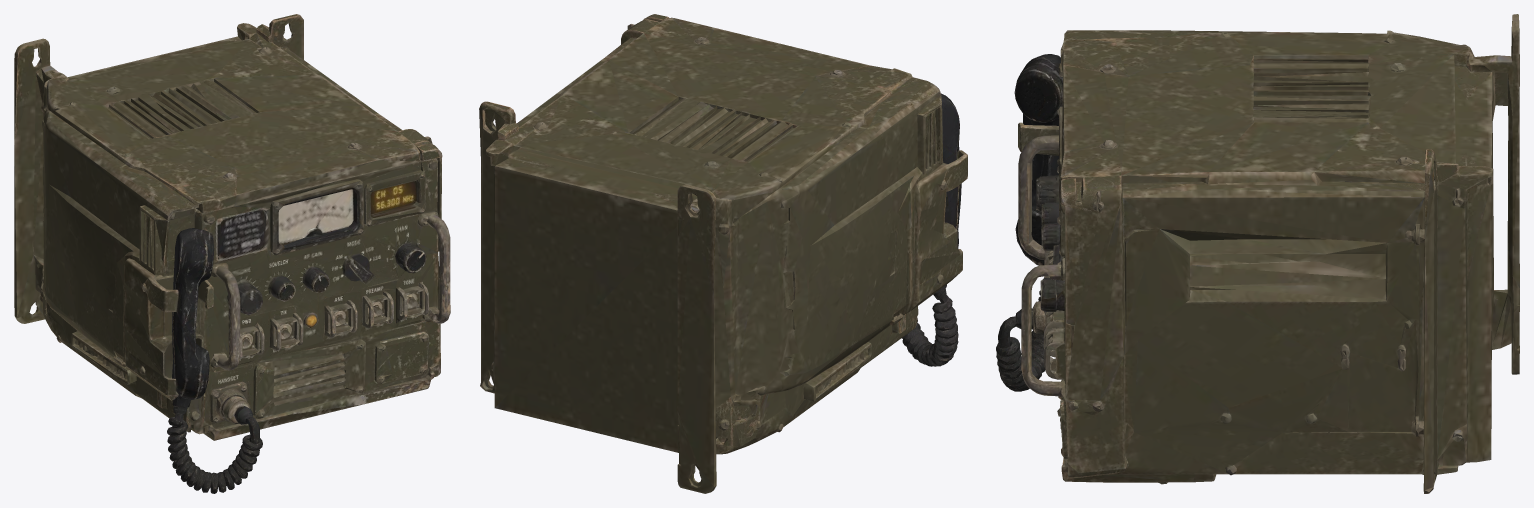
File: radio.glb
3 renders of one model, left to right at view 1: azimuth 30°, elevation 25°; view 2: azimuth 150°, elevation 25°; view 3: azimuth 270°, elevation 25°, orthographic. The views are drawn at different scales.
Parts seen in each view (by area): view 1: Mesh_0; view 2: Mesh_0; view 3: Mesh_0.
Boxes of the visible parts, <box> form: Mesh_0: <box>14,14,450,493</box>; Mesh_0: <box>479,14,967,493</box>; Mesh_0: <box>996,14,1519,493</box>.
Bounding box in the file's own units: 1.54 × 1.51 × 1.9.
1 material, 1 textured.
